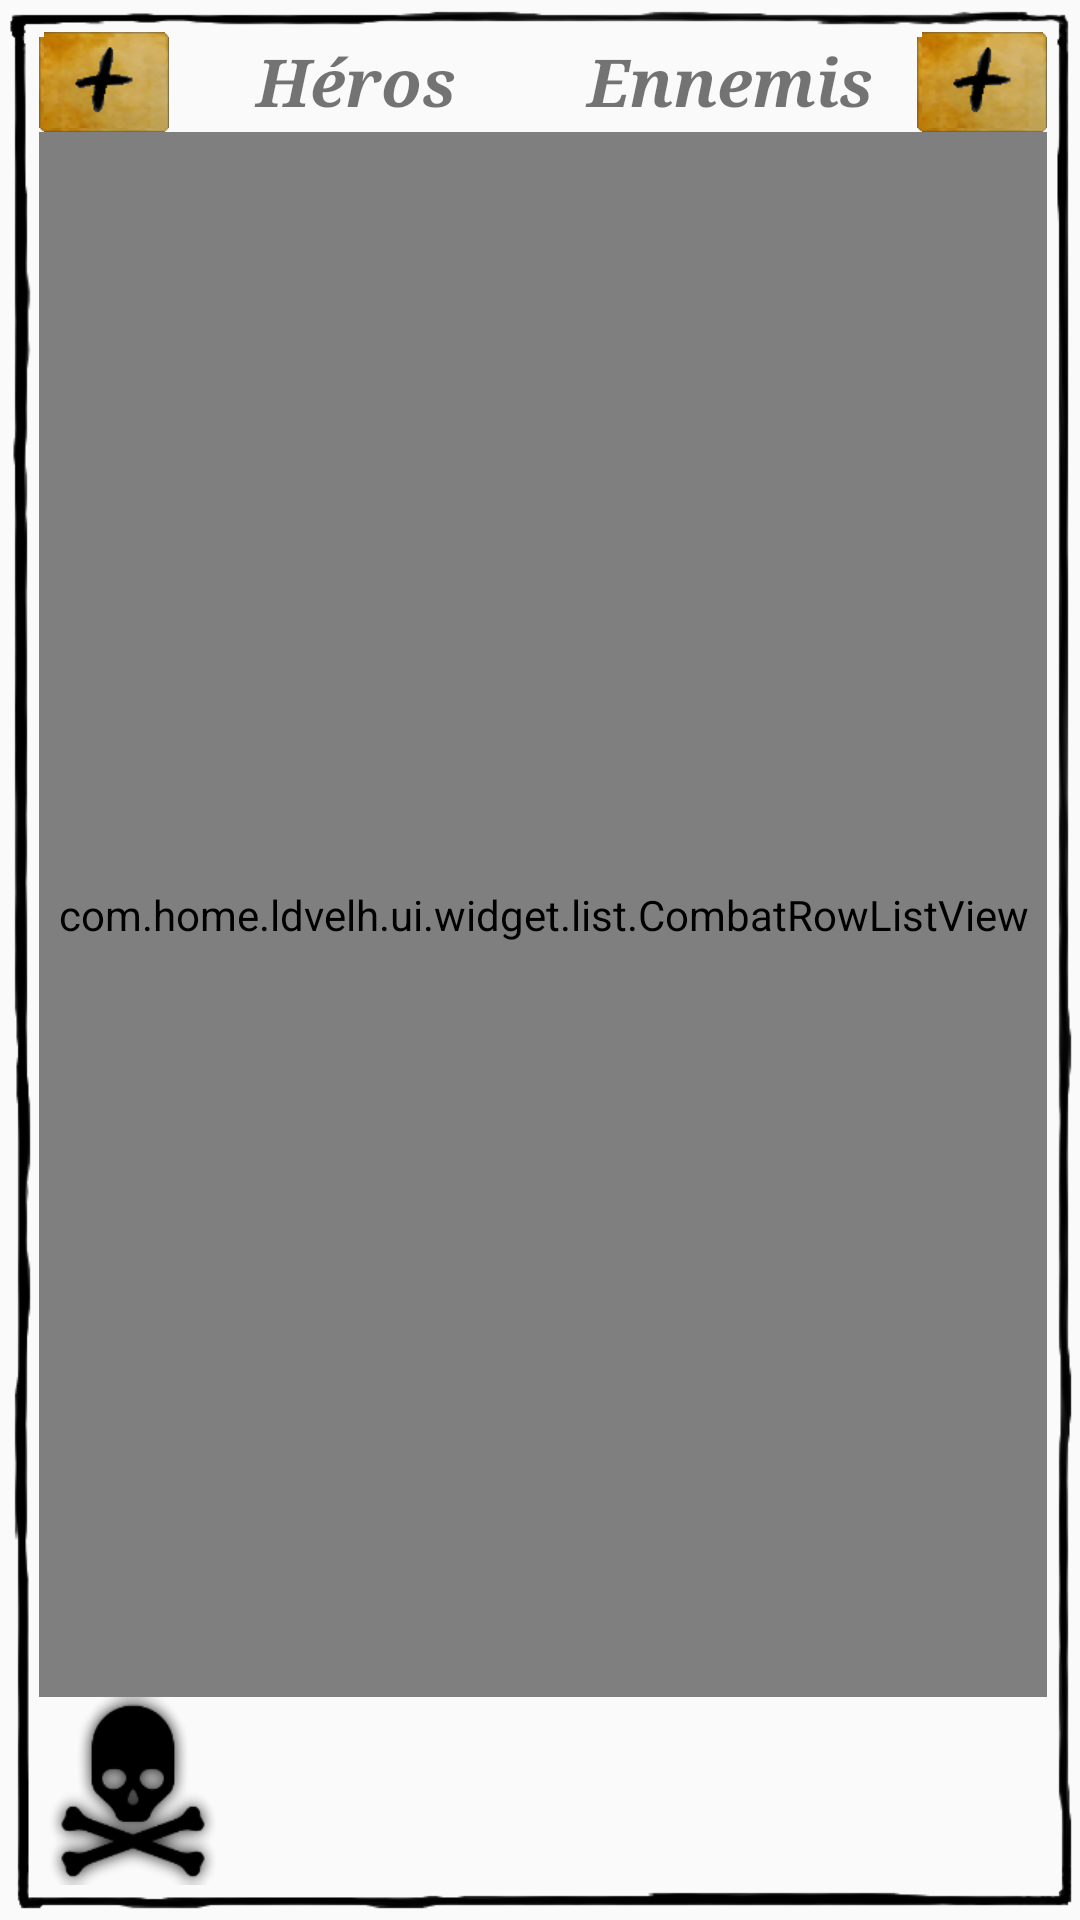

Screen size 1080 x 1920. Icon name, then its center in pixels as (x=x, y=y):
plus medium: (x=104, y=82), (x=982, y=82)
skull: (x=133, y=1791)
